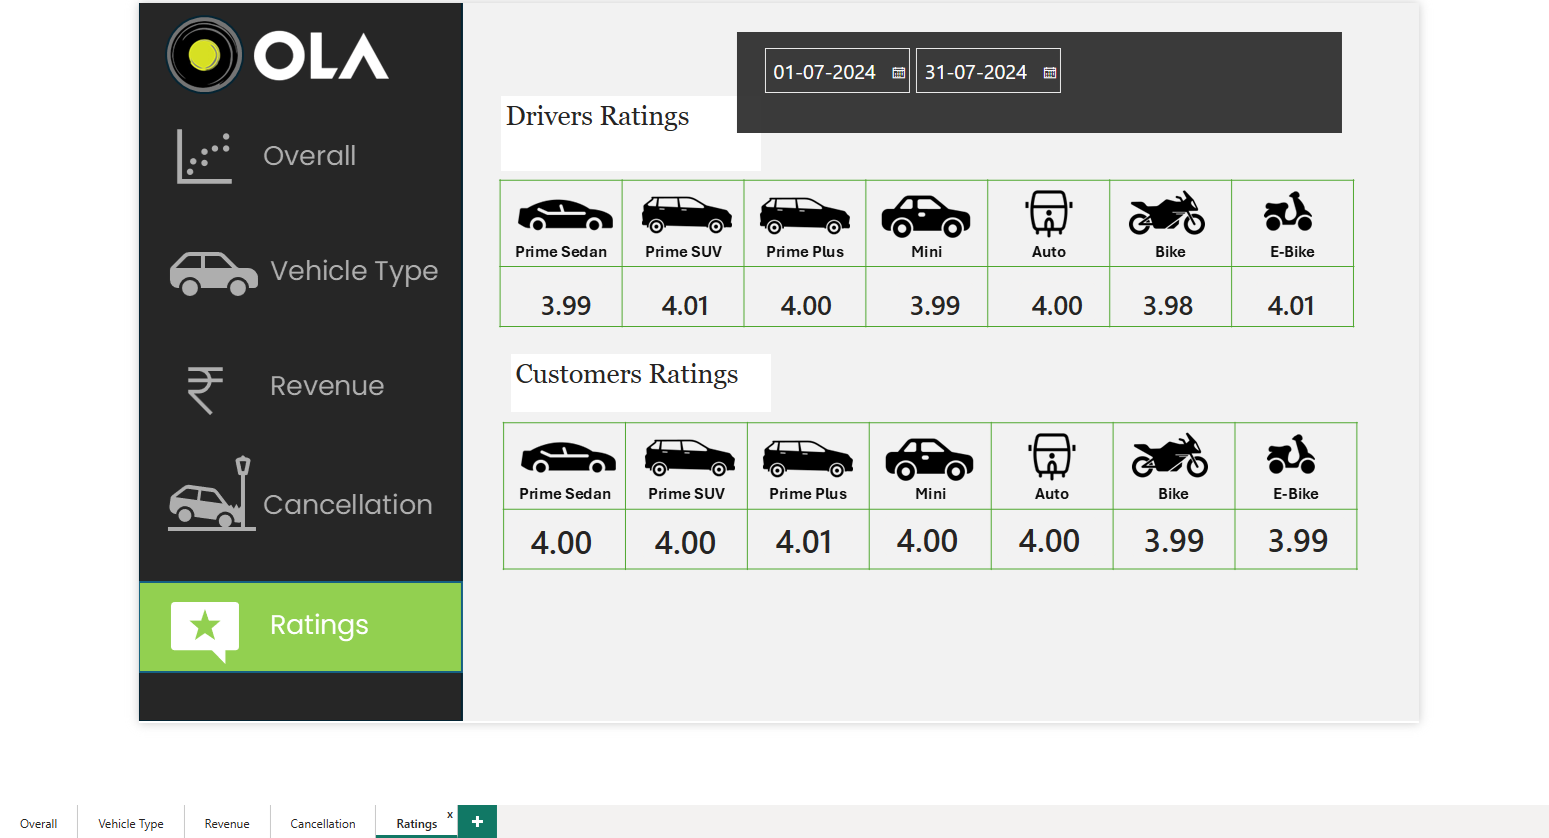

The dashboard page shown, as its layout file describes it:
{"tool":"powerbi","page":{"name":"Ratings","canvas":[1280,720],"ordinal":4},"visuals":[{"type":"actionButton","box":[0,220.7,324.1,91.8],"z":0},{"type":"actionButton","box":[0,312.5,324.1,119.6],"z":1000},{"type":"actionButton","box":[0,116.2,324.1,104.5],"z":2000},{"type":"actionButton","box":[0,432.1,324.1,131.3],"z":3000},{"type":"textbox","box":[362.1,93,260.3,75.4],"z":4000},{"type":"textbox","box":[372.2,350.8,260.3,57.8],"z":5000},{"type":"cardVisual","fields":{"Data":["Avg(Bookings-100000-Rows.Driver_Ratings)"]},"box":[372.2,261.5,111.9,74.2],"z":6000},{"type":"cardVisual","fields":{"Data":["Avg(Bookings-100000-Rows.Driver_Ratings)"]},"box":[492.9,261.5,111.9,74.2],"z":7000},{"type":"cardVisual","fields":{"Data":["Avg(Bookings-100000-Rows.Driver_Ratings)"]},"box":[612.3,261.5,111.9,74.2],"z":8000},{"type":"cardVisual","fields":{"Data":["Avg(Bookings-100000-Rows.Driver_Ratings)"]},"box":[740.6,261.5,111.9,74.2],"z":9000},{"type":"cardVisual","fields":{"Data":["Avg(Bookings-100000-Rows.Driver_Ratings)"]},"box":[862.6,261.5,111.9,74.2],"z":10000},{"type":"cardVisual","fields":{"Data":["Avg(Bookings-100000-Rows.Driver_Ratings)"]},"box":[974.5,261.5,111.9,74.2],"z":11000},{"type":"cardVisual","fields":{"Data":["Avg(Bookings-100000-Rows.Driver_Ratings)"]},"box":[1098.9,261.5,111.9,74.2],"z":12000},{"type":"cardVisual","fields":{"Data":["Avg(Bookings-100000-Rows.Customer_Rating)"]},"box":[361.7,498.1,125.2,75.1],"z":13000},{"type":"cardVisual","fields":{"Data":["Avg(Bookings-100000-Rows.Customer_Rating)"]},"box":[486,498.1,125.2,75.1],"z":13001},{"type":"cardVisual","fields":{"Data":["Avg(Bookings-100000-Rows.Customer_Rating)"]},"box":[606.6,497.2,124.3,74.2],"z":13002},{"type":"cardVisual","fields":{"Data":["Avg(Bookings-100000-Rows.Customer_Rating)"]},"box":[728.1,496.2,124.3,74.2],"z":13003},{"type":"cardVisual","fields":{"Data":["Avg(Bookings-100000-Rows.Customer_Rating)"]},"box":[849.6,496.2,125.2,75.1],"z":13004},{"type":"cardVisual","fields":{"Data":["Avg(Bookings-100000-Rows.Customer_Rating)"]},"box":[974.8,496.2,125.2,75.1],"z":13005},{"type":"cardVisual","fields":{"Data":["Avg(Bookings-100000-Rows.Customer_Rating)"]},"box":[1099.1,496.2,125.2,74.2],"z":13006},{"type":"slicer","title":"Date","fields":{"Values":["Bookings-100000-Rows.Date"]},"box":[597.6,29.3,605.6,101.1],"z":13007}]}

Visuals, with their boxes on the page's 1280x720 design canvas (x1, y1, x2, y2). These are canvas units, not pixel positions in the 1549x838 screenshot, which may show the page scaled, cropped or inside an application window:
actionButton: l=0, t=221, r=324, b=312
actionButton: l=0, t=312, r=324, b=432
actionButton: l=0, t=116, r=324, b=221
actionButton: l=0, t=432, r=324, b=563
textbox: l=362, t=93, r=622, b=168
textbox: l=372, t=351, r=632, b=409
cardVisual - Avg(Bookings-100000-Rows.Driver_Ratings): l=372, t=262, r=484, b=336
cardVisual - Avg(Bookings-100000-Rows.Driver_Ratings): l=493, t=262, r=605, b=336
cardVisual - Avg(Bookings-100000-Rows.Driver_Ratings): l=612, t=262, r=724, b=336
cardVisual - Avg(Bookings-100000-Rows.Driver_Ratings): l=741, t=262, r=852, b=336
cardVisual - Avg(Bookings-100000-Rows.Driver_Ratings): l=863, t=262, r=974, b=336
cardVisual - Avg(Bookings-100000-Rows.Driver_Ratings): l=974, t=262, r=1086, b=336
cardVisual - Avg(Bookings-100000-Rows.Driver_Ratings): l=1099, t=262, r=1211, b=336
cardVisual - Avg(Bookings-100000-Rows.Customer_Rating): l=362, t=498, r=487, b=573
cardVisual - Avg(Bookings-100000-Rows.Customer_Rating): l=486, t=498, r=611, b=573
cardVisual - Avg(Bookings-100000-Rows.Customer_Rating): l=607, t=497, r=731, b=571
cardVisual - Avg(Bookings-100000-Rows.Customer_Rating): l=728, t=496, r=852, b=570
cardVisual - Avg(Bookings-100000-Rows.Customer_Rating): l=850, t=496, r=975, b=571
cardVisual - Avg(Bookings-100000-Rows.Customer_Rating): l=975, t=496, r=1100, b=571
cardVisual - Avg(Bookings-100000-Rows.Customer_Rating): l=1099, t=496, r=1224, b=570
"Date" slicer: l=598, t=29, r=1203, b=130
